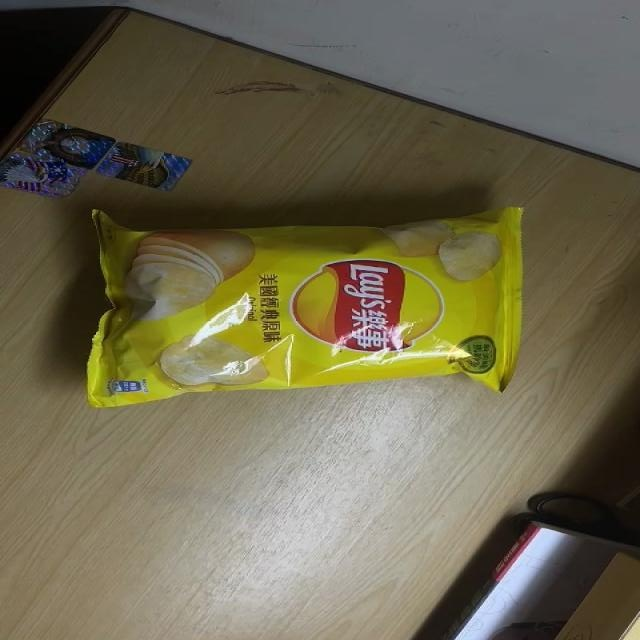Lay-s-original: (88, 208, 527, 410)
